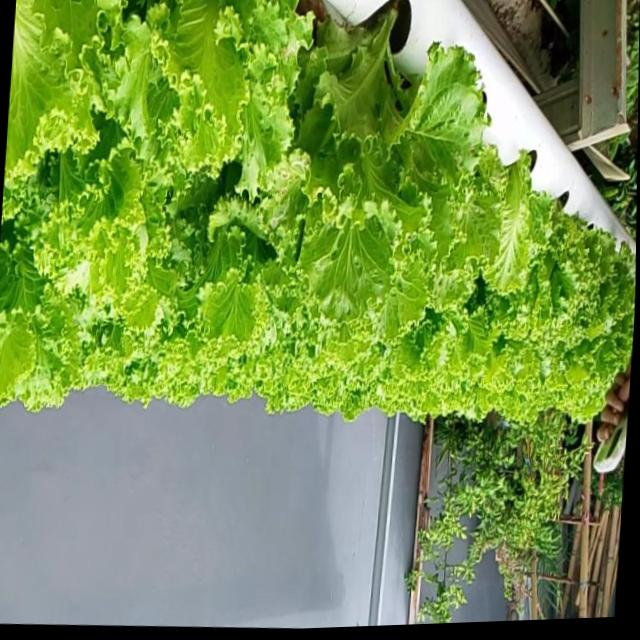Mature: (0, 0, 636, 423), (262, 0, 480, 326), (490, 181, 599, 345)
